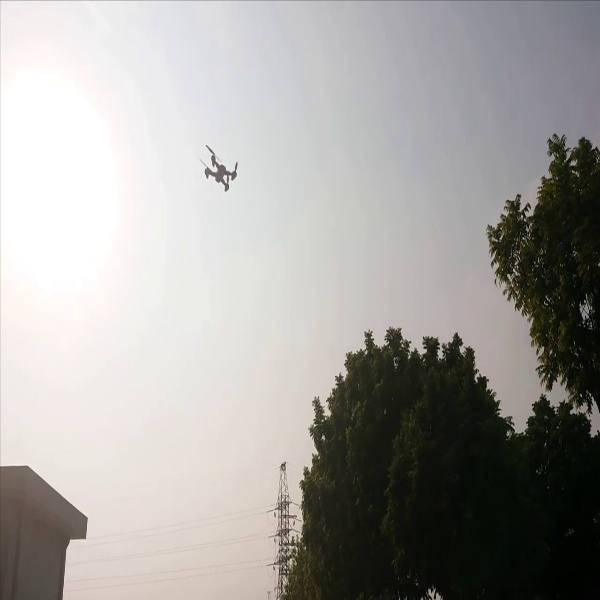drone: (193, 141, 242, 198)
